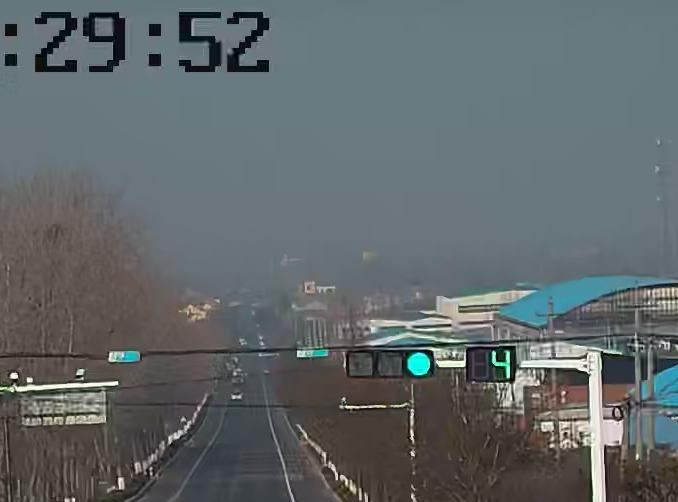green: (405, 352, 433, 376)
greentime: (475, 348, 521, 379)
